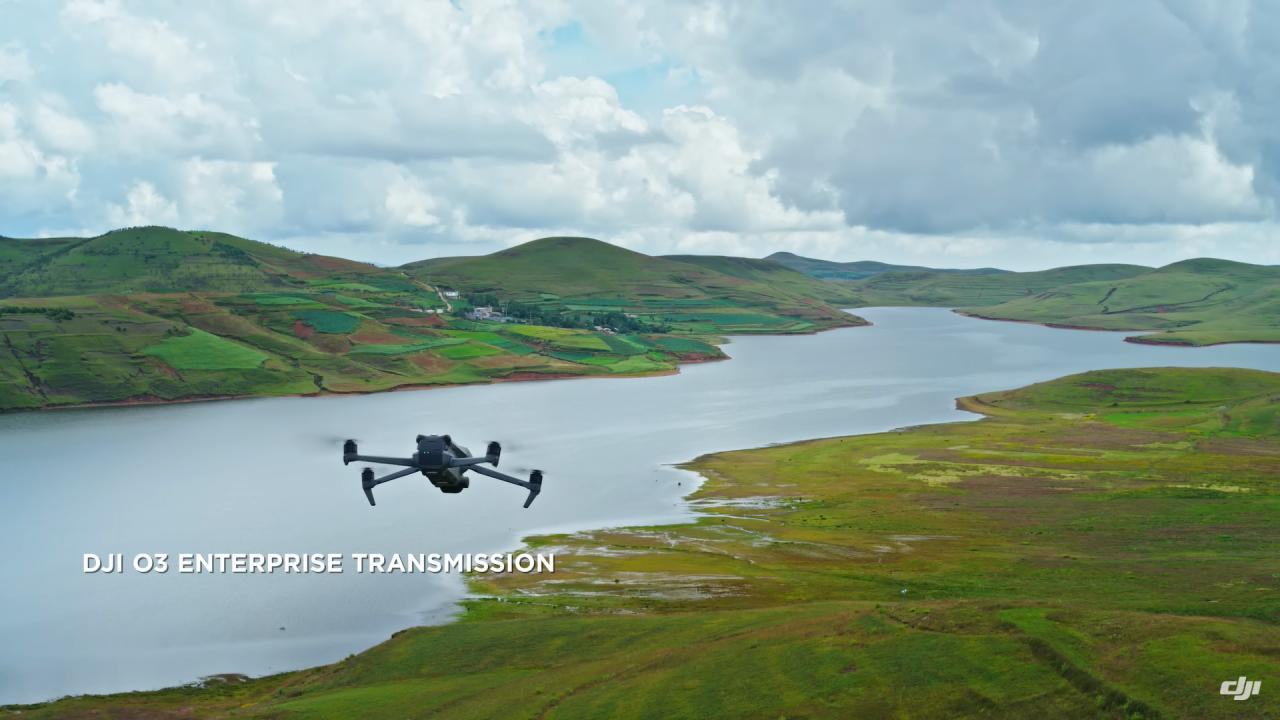Drone: (286, 413, 570, 517)
